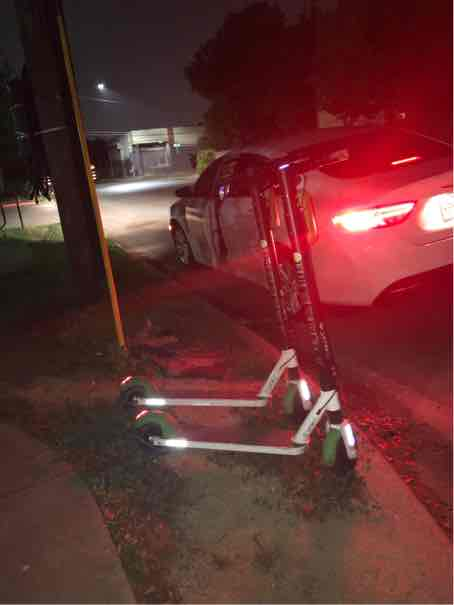too close: (302, 414, 395, 484)
